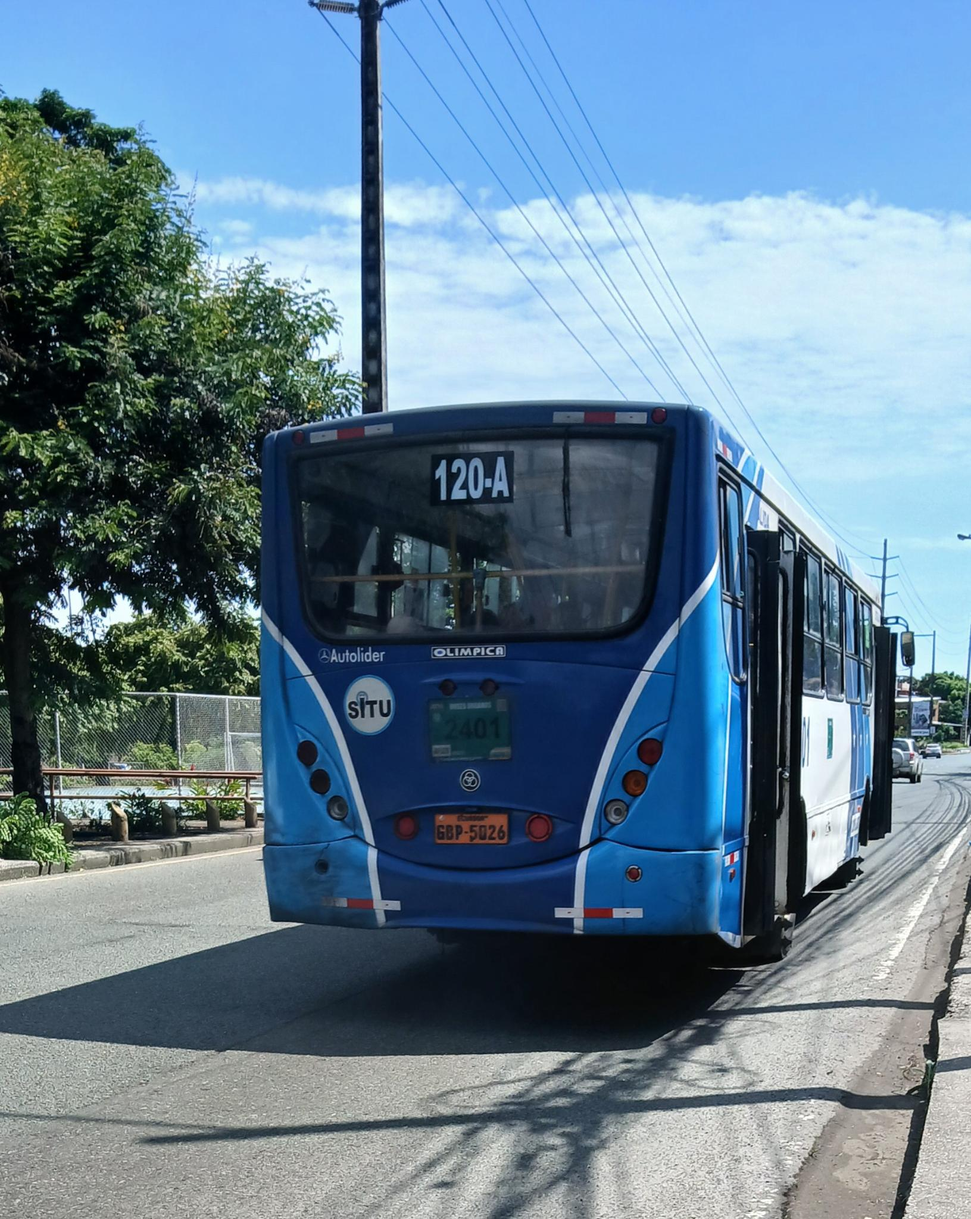license_plate: (433, 813, 511, 846)
